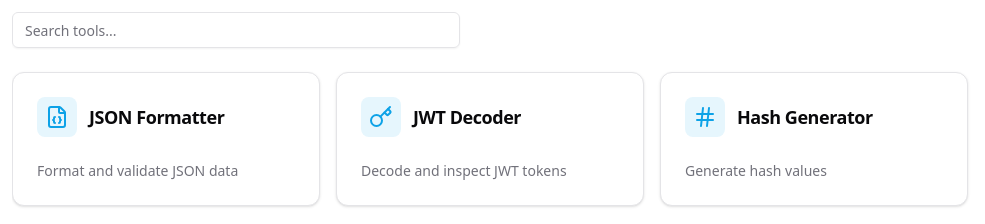
Test: ToolGrid › Search Functionality › should search by tool name
Type "hash" into the field at (236, 30), box [12, 12, 460, 48]
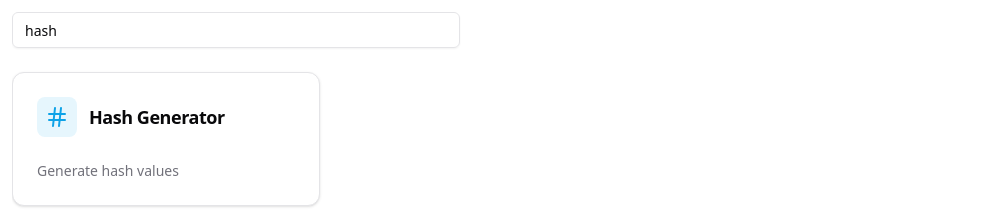
Expected: the link "Hash Generator Generate hash values" is shown, [12, 72, 320, 206]
Result: the link "JSON Formatter" is gone
